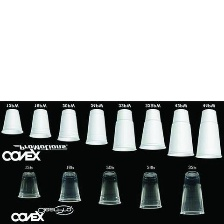glass: (192, 106, 224, 162), (164, 106, 193, 159), (137, 106, 170, 152), (177, 166, 206, 216), (109, 106, 139, 152), (55, 104, 82, 144), (137, 170, 163, 211), (96, 168, 122, 209), (82, 108, 109, 147), (56, 169, 86, 203), (16, 170, 43, 201), (1, 106, 27, 138), (28, 106, 52, 140)
